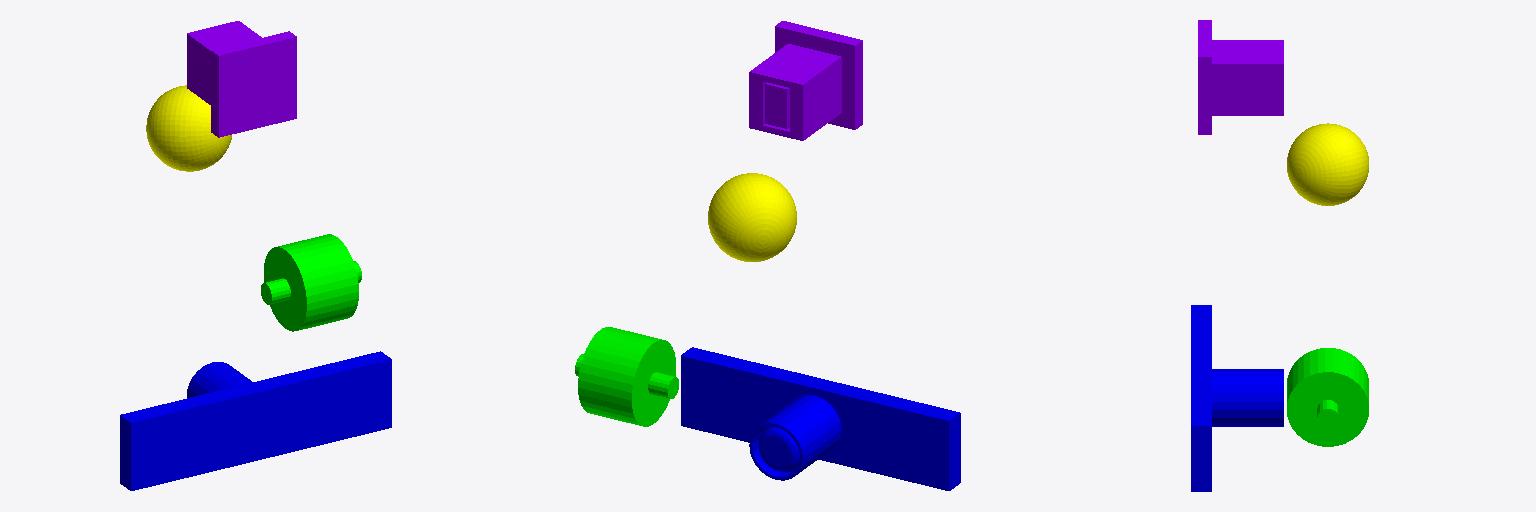
robot.urdf — full_assembly_robot_unit:
<?xml version="1.0" encoding="utf-8"?>
<robot name="full_assembly_robot_unit">

<link name="chassis_link">
  <inertial>
    <origin xyz="-1.7488e-05 -0.00532026 -0.00564779" rpy="0 0 0"/>
    <mass value="0.3"/>
    <inertia ixx="7.088e-05" ixy="0" ixz="0"
             iyy="1.714e-04" iyz="3.701e-07"
             izz="1.318e-04"/>
  </inertial>
  <visual>
    <geometry>
      <mesh filename="robots/meshes/chassis_link.STL"/>
    </geometry>
    <material name="dark_grey">
      <color rgba="0.2 0.2 0.2 1"/>
    </material>
  </visual>
  <collision>
    <geometry>
      <mesh filename="robots/meshes/chassis_link_vhacd.obj"/>
    </geometry>
  </collision>
</link>

<link name="left_wheel_link">
  <inertial>
    <origin xyz="-0.004 0 0" rpy="0 0 0"/>
    <mass value="0.005"/>
    <inertia ixx="7.5e-08" ixy="0" ixz="0"
             iyy="7.5e-08" iyz="0"
             izz="7.5e-08"/>
  </inertial>
  <visual>
    <geometry>
      <mesh filename="robots/meshes/left_wheel_link.STL"/>
    </geometry>
    <material name="green">
      <color rgba="0.0 1.0 0.0 1"/>
    </material>
  </visual>
  <collision>
    <geometry>
      <mesh filename="robots/meshes/left_wheel_link.STL"/>
    </geometry>
    <surface>
      <friction>
        <!-- <ode mu="1.0" mu2="1.0"/> -->
        <ode mu="2.0" mu2="2.0"/>
      </friction>
    </surface>
  </collision>
</link>

<joint name="left_wheel_joint" type="continuous">
  <origin xyz="0.02264 0.0061 -0.02193" rpy="0 0 0"/>
  <parent link="chassis_link"/>
  <child link="left_wheel_link"/>
  <axis xyz="-1 0 0"/>
</joint>

<link name="right_wheel_link">
  <inertial>
    <origin xyz="-0.004 0 0" rpy="0 0 0"/>
    <mass value="0.005"/>
    <inertia ixx="7.5e-08" ixy="0" ixz="0"
             iyy="7.5e-08" iyz="0"
             izz="7.5e-08"/>
  </inertial>
  <visual>
    <geometry>
      <mesh filename="robots/meshes/right_wheel_link.STL"/>
    </geometry>
    <material name="red">
      <color rgba="1.0 0.0 0.0 1"/>
    </material>
  </visual>
  <collision>
    <geometry>
      <mesh filename="robots/meshes/right_wheel_link.STL"/>
    </geometry>
    <surface>
      <friction>
        <!-- <ode mu="1.0" mu2="1.0"/> -->
        <ode mu="2.0" mu2="2.0"/>
      </friction>
    </surface>
  </collision>
</link>

<joint name="right_wheel_joint" type="continuous">
  <origin xyz="-0.02264 0.0061 -0.02193" rpy="3.1416 0 3.1416"/>
  <parent link="chassis_link"/>
  <child link="right_wheel_link"/>
  <axis xyz="1 0 0"/>
</joint>

<link name="rear_ball_link">
  <inertial>
    <origin xyz="0 0 0" rpy="0 0 0"/>
    <mass value="0.005"/>
    <inertia ixx="6.5e-08" ixy="0" ixz="0"
             iyy="6.5e-08" iyz="0"
             izz="6.5e-08"/>
  </inertial>
  <visual>
    <geometry>
      <mesh filename="robots/meshes/rear_ball_link.STL"/>
    </geometry>
    <material name="yellow">
      <color rgba="1.0 1.0 0.0 1"/>
    </material>
  </visual>
  <collision>
    <geometry>
      <mesh filename="robots/meshes/rear_ball_link.STL"/>
    </geometry>
    <surface>
      <friction>
        <!-- <ode mu="0.01" mu2="0.01"/> -->
        <ode mu="0.0001" mu2="0.0001"/>
      </friction>
    </surface>
  </collision>
</link>

<joint name="rear_ball_joint" type="continuous">
  <origin xyz="0 0.0061 0.00503" rpy="3.1416 -1.5708 0"/>
  <parent link="chassis_link"/>
  <child link="rear_ball_link"/>
  <axis xyz="1 0 0"/>
</joint>

<link name="UV_LED_link">
  <visual>
    <geometry>
      <mesh filename="robots/meshes/UV_LED_link.STL"/>
    </geometry>
    <material name="purple">
      <color rgba="0.6 0.0 1.0 1"/>
    </material>
  </visual>
</link>

<joint name="UV_LED_joint" type="fixed">
  <origin xyz="0 0 0.0183562" rpy="0 1.5708 0"/>
  <parent link="chassis_link"/>
  <child link="UV_LED_link"/>
</joint>

<link name="sensor_camera_link">
  <visual>
    <geometry>
      <mesh filename="robots/meshes/sensor_camera_link.STL"/>
    </geometry>
    <material name="blue">
      <color rgba="0.0 0.0 1.0 1"/>
    </material>
  </visual>
</link>

<joint name="sensor_camera_joint" type="fixed">
  <origin xyz="0 0 -0.03073" rpy="+1.5708 +1.5708 +1.5708"/>
  <parent link="chassis_link"/>
  <child link="sensor_camera_link"/>
</joint>

</robot>

--- What the picture shows (computed from the rendered views, not written in the file) ---
Views: 3 orthographic renders of the robot side by side, from view 1: azimuth 30°, elevation 25°; view 2: azimuth 150°, elevation 25°; view 3: azimuth 270°, elevation 25°.
Robot: full_assembly_robot_unit — 6 links, 5 joints (3 continuous, 2 fixed); root link chassis_link; default pose: all joints at 0.
Visible links, largest first — view 1: sensor_camera_link, UV_LED_link, left_wheel_link, rear_ball_link; view 2: sensor_camera_link, UV_LED_link, left_wheel_link, rear_ball_link; view 3: sensor_camera_link, UV_LED_link, left_wheel_link, rear_ball_link.
Link boxes in pixels (<box>): sensor_camera_link: <box>120,351,391,490</box>; UV_LED_link: <box>187,21,296,137</box>; left_wheel_link: <box>261,234,361,331</box>; rear_ball_link: <box>146,85,231,171</box>; sensor_camera_link: <box>681,347,960,490</box>; UV_LED_link: <box>749,21,862,140</box>; left_wheel_link: <box>575,327,678,426</box>; rear_ball_link: <box>708,173,796,261</box>; sensor_camera_link: <box>1191,305,1283,491</box>; UV_LED_link: <box>1198,20,1283,134</box>; left_wheel_link: <box>1287,348,1368,446</box>; rear_ball_link: <box>1287,123,1368,205</box>.
Bounding box of the posed robot: 0.0455 × 0.0248 × 0.0601 m (x, y, z).
Meshes: 6 distinct files referenced, 4 mesh visuals loaded (4 binary STL); not drawn: 2 (reference not matched to a file when rendering).
